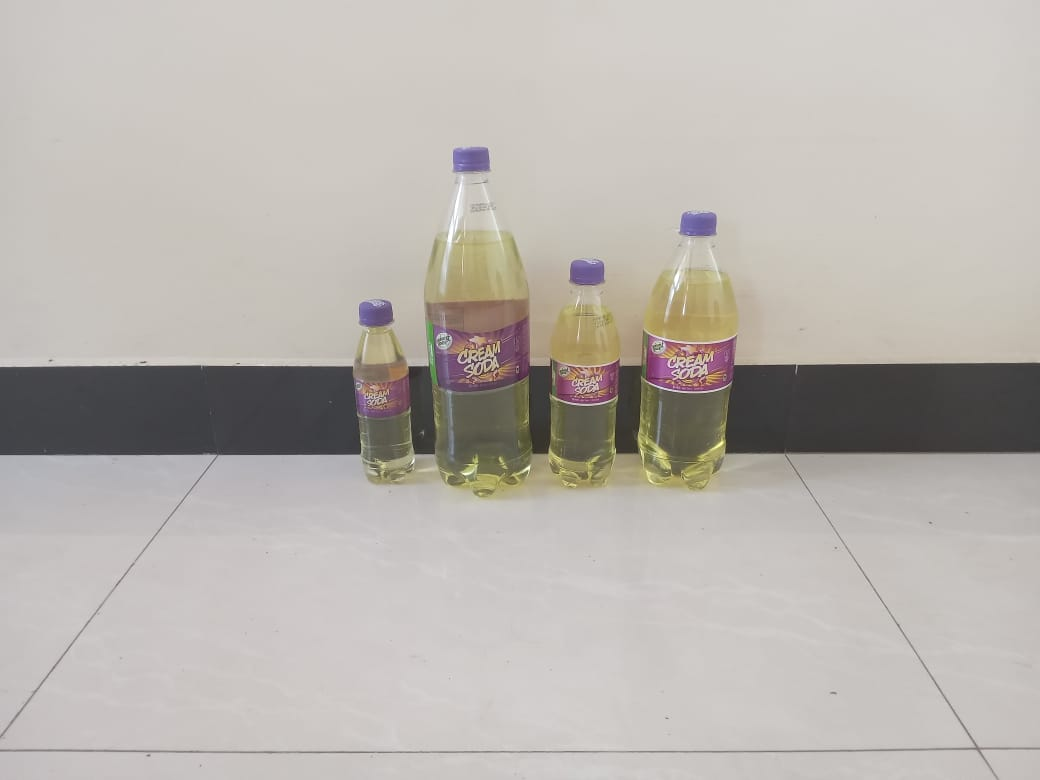L: (422, 146, 536, 500)
M: (636, 208, 735, 490)
S: (545, 255, 623, 488)
Xs: (347, 301, 417, 486)
